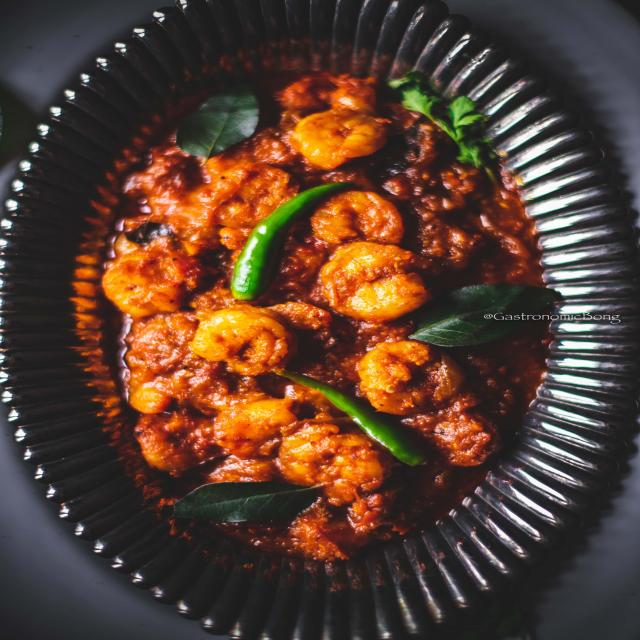prawn thokku: (53, 69, 551, 563)
